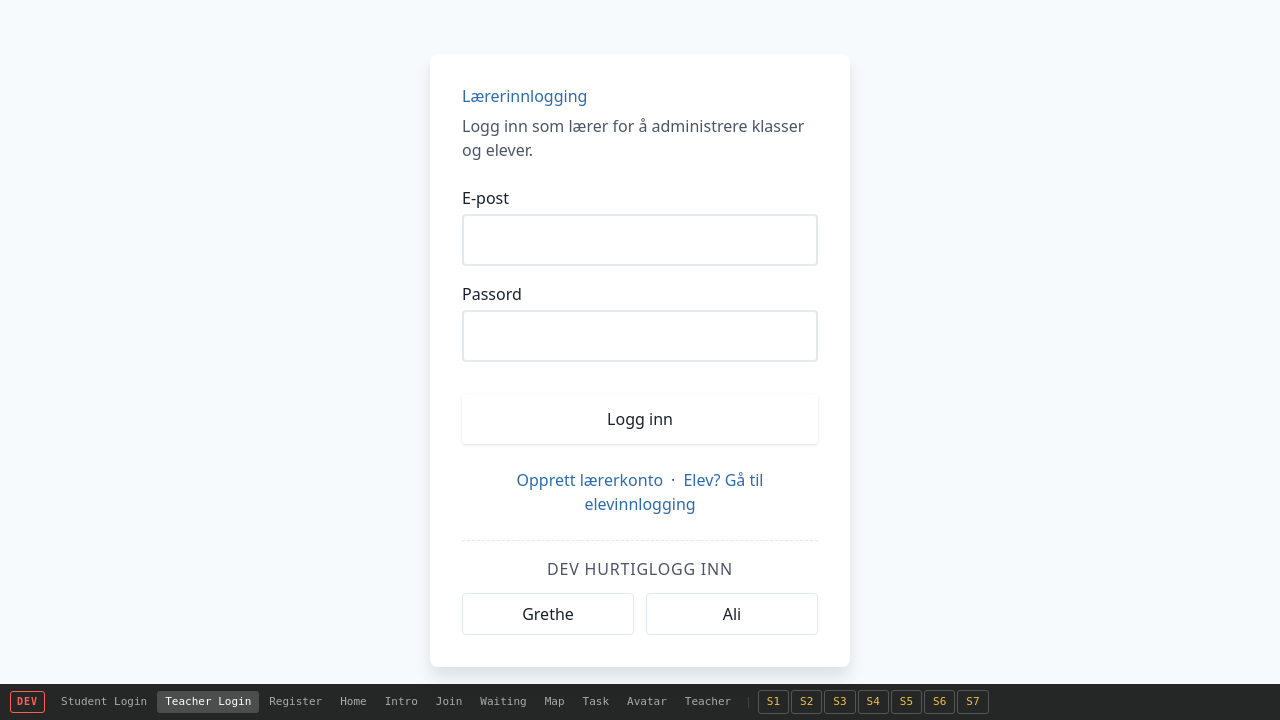
Scenario: Teacher classroom flow › creates a classroom and sees the join code
Type "teacher@test.no" into the field labelled "E-post" at (640, 240), box [462, 214, 818, 266]
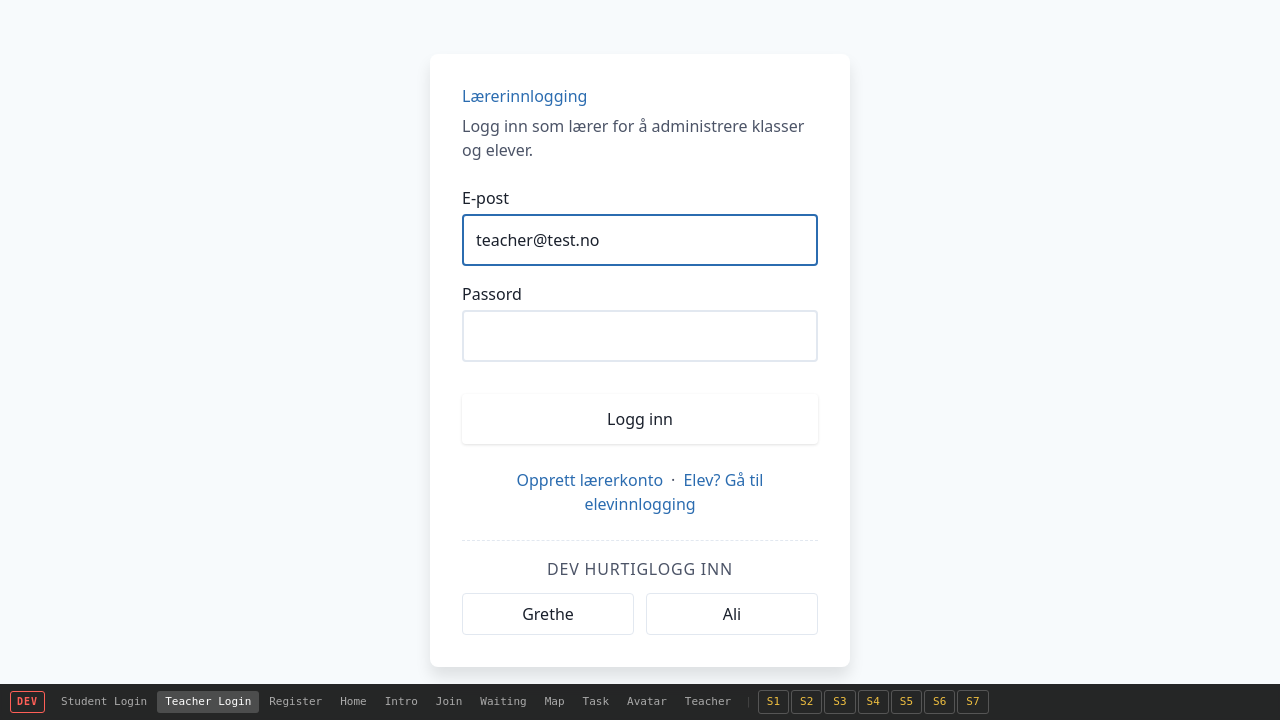
Type "password123" into the password field labelled "Passord" at (640, 336), box [462, 310, 818, 362]
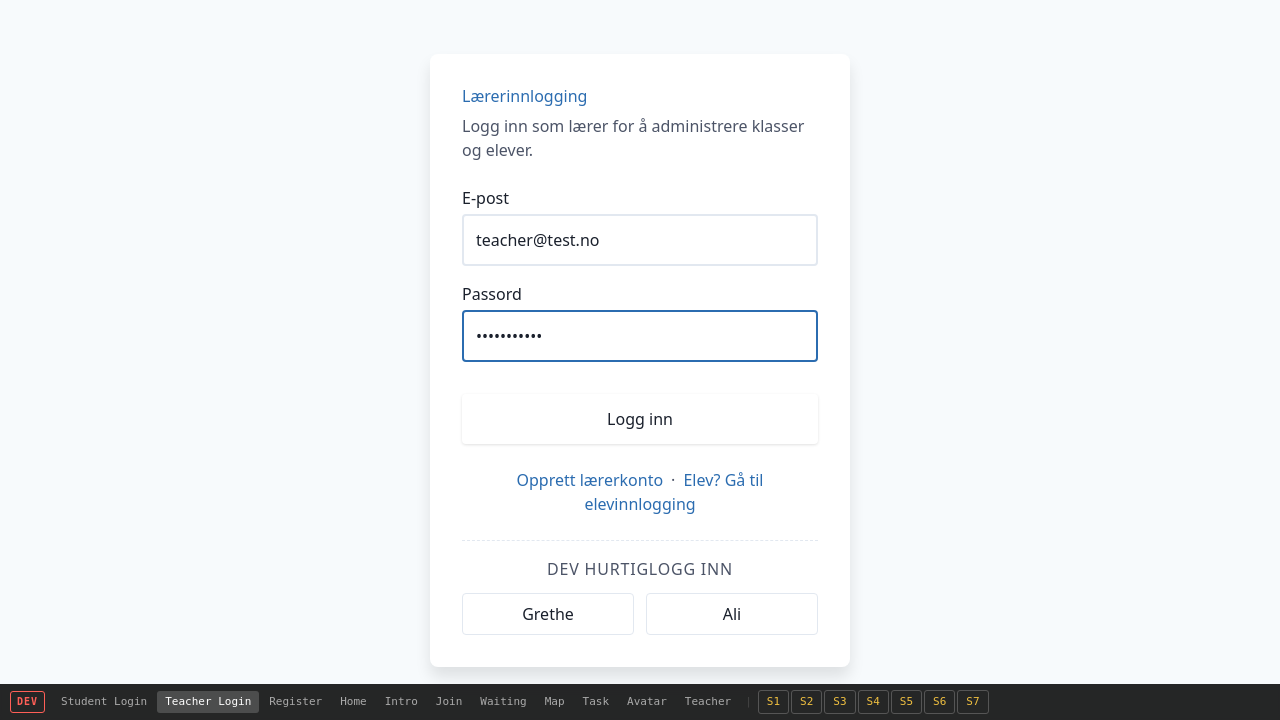
Click the submit button at (640, 419), box [462, 394, 818, 444]
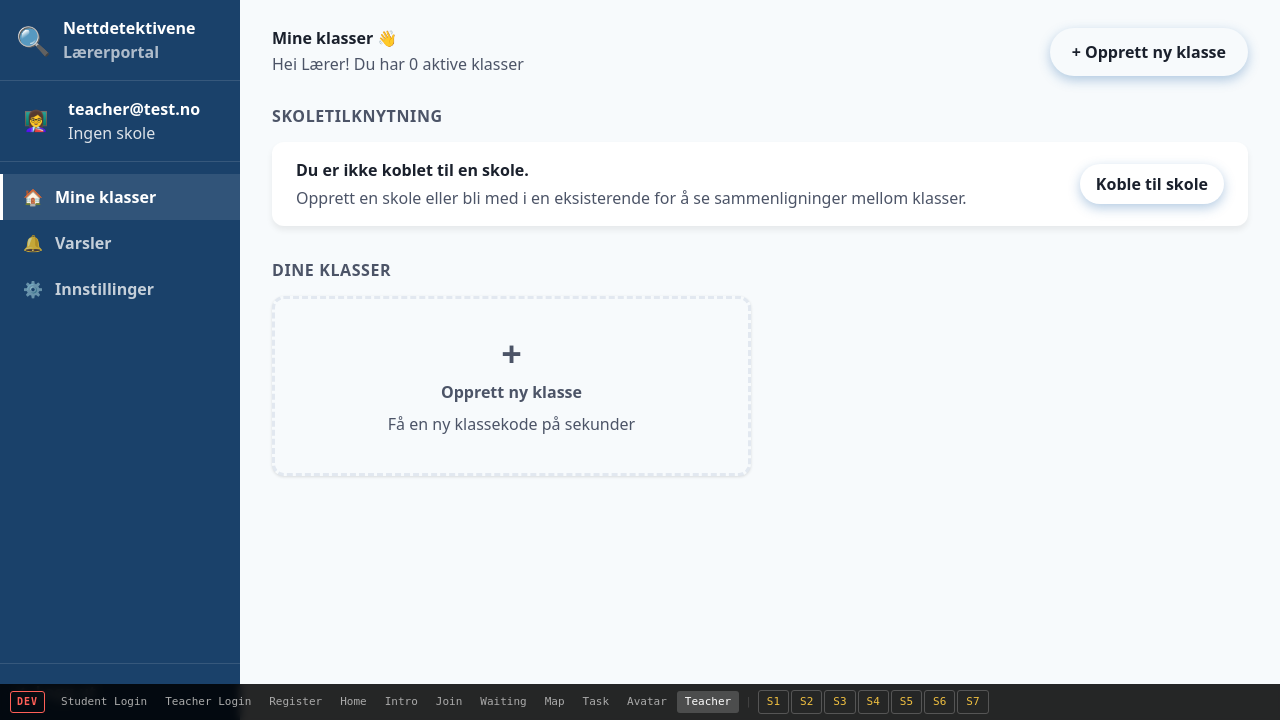
Click the button "+ Opprett ny klasse" at (1149, 52), box [1050, 28, 1248, 76]
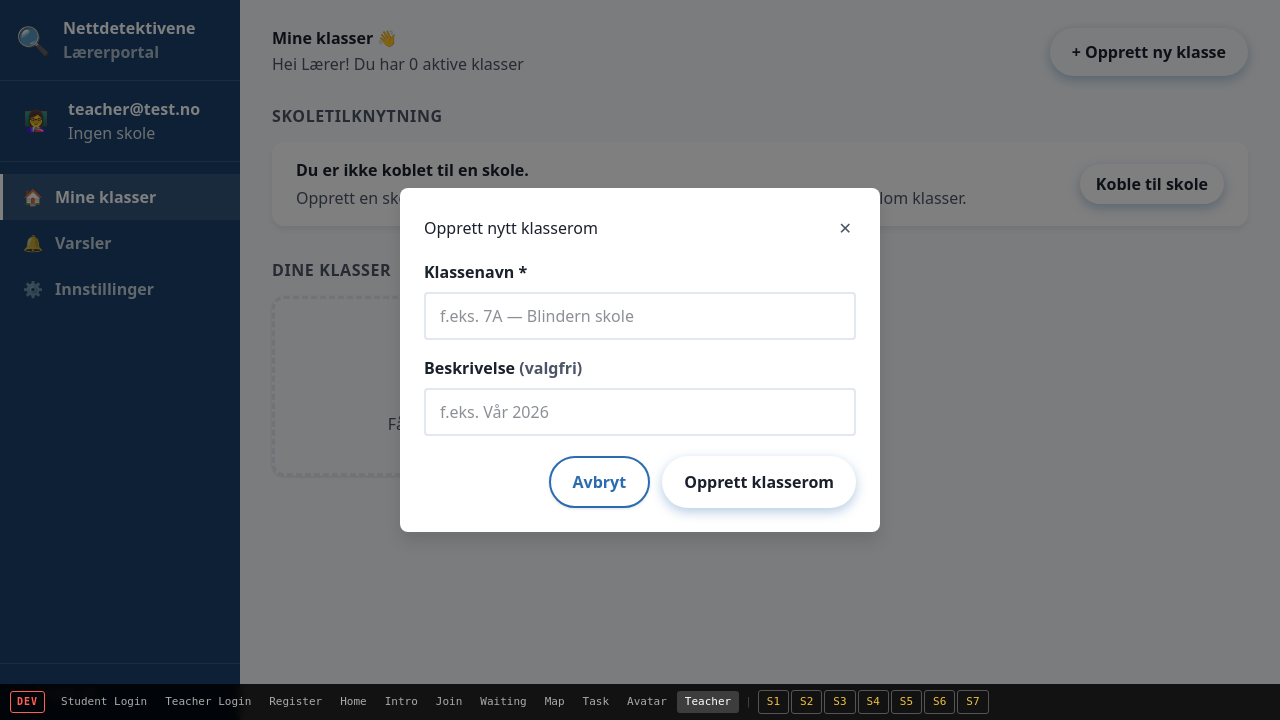
Result: the heading "Opprett nytt klasserom" is shown at [424, 218, 598, 238]
Type "Testklasse 7A" into the field with class "form-input" showing "f.eks. 7A — Blindern skole" at (640, 316), box [424, 292, 856, 340]
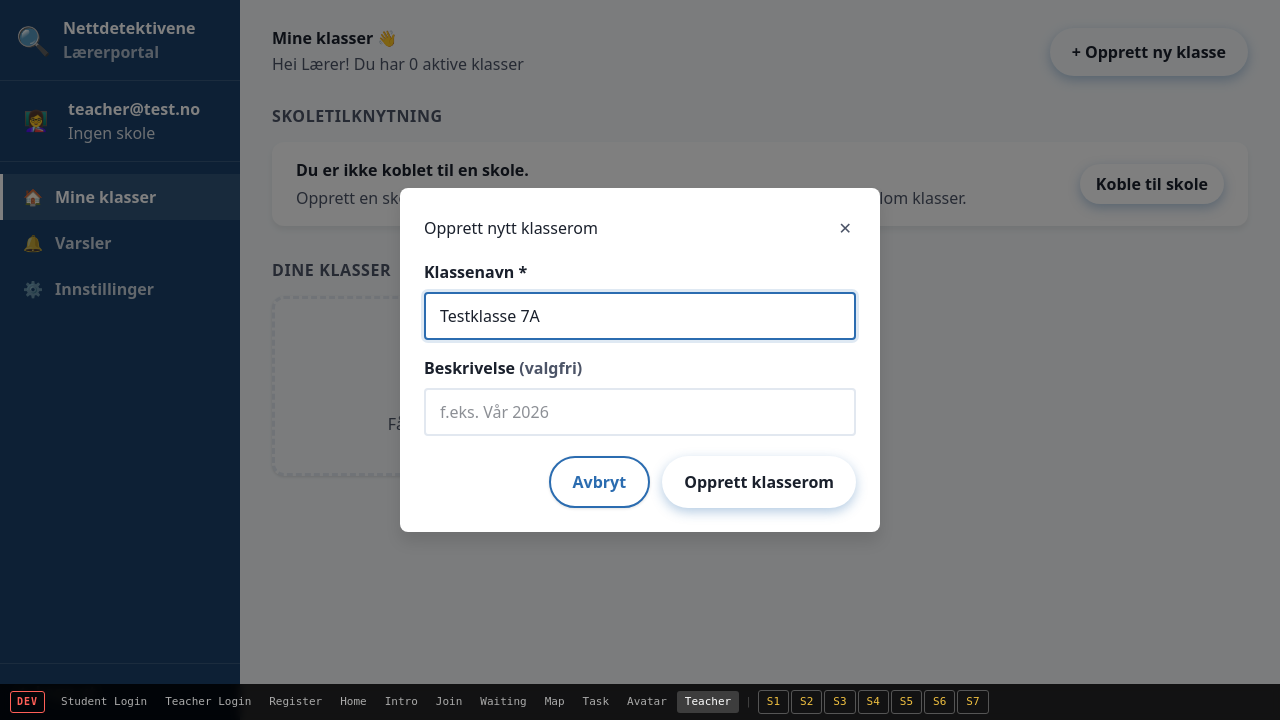
Click the button "Opprett klasserom" at (759, 482), box [662, 456, 856, 508]
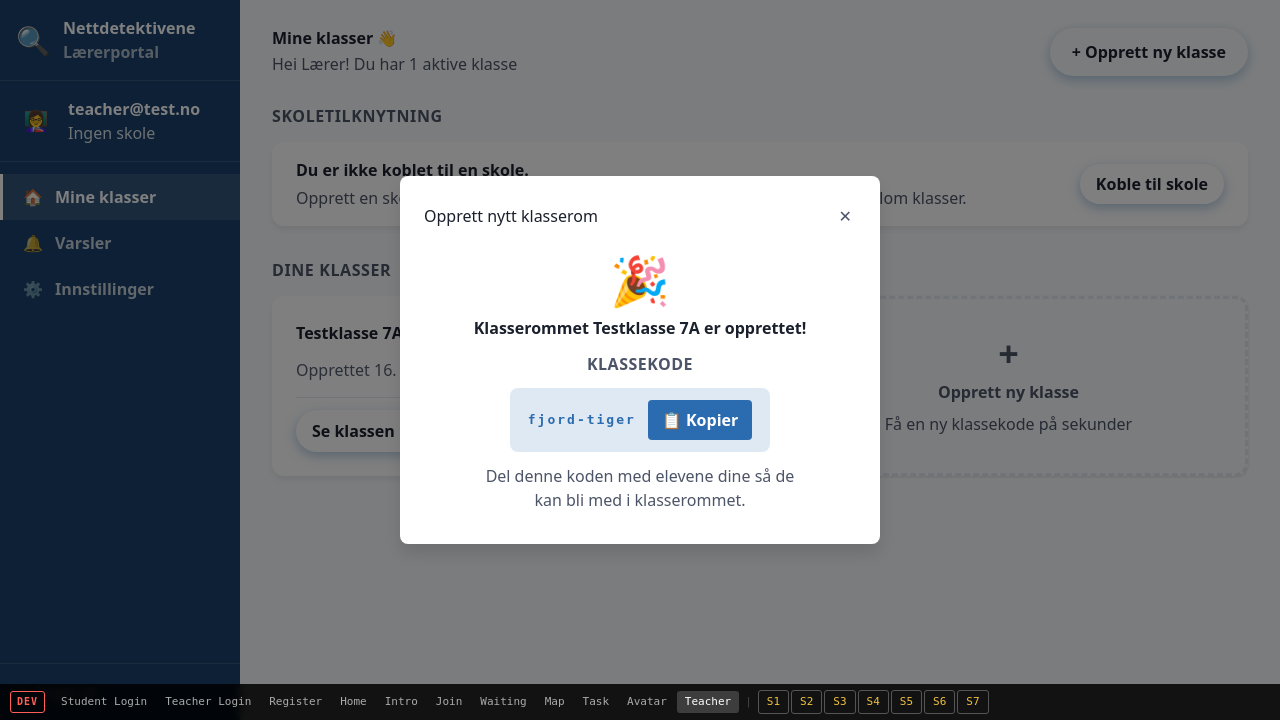
Result: the button "📋 Kopier" is shown at [648, 400, 752, 440]
